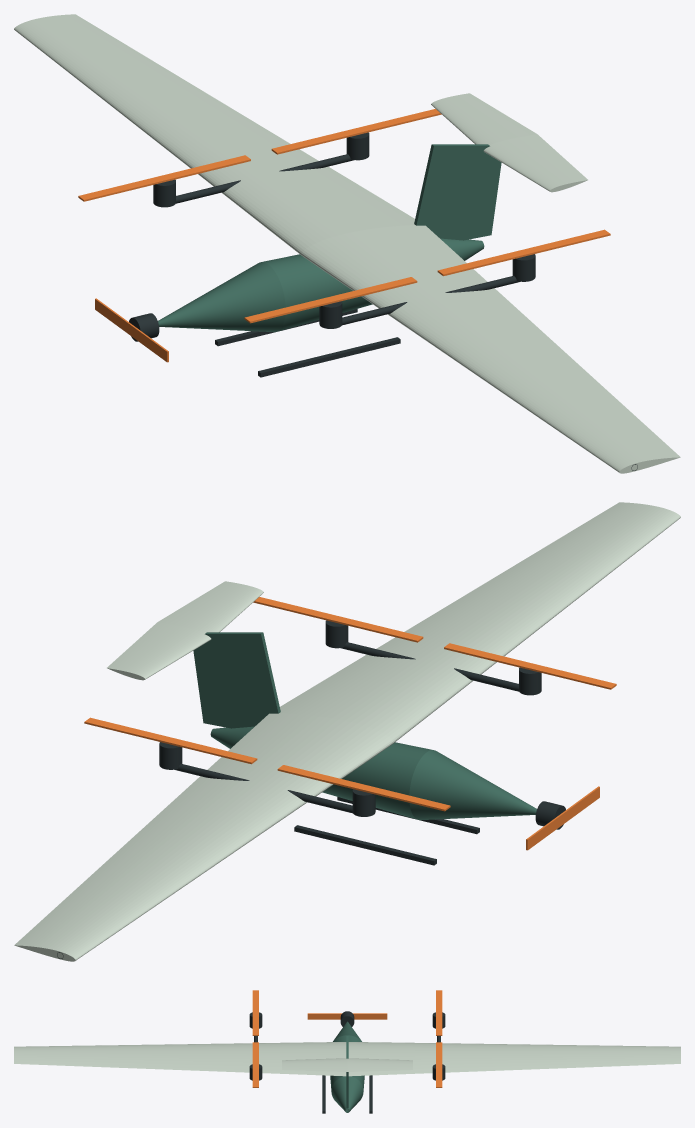
3 views of the same model, one above another, from view 1: azimuth 30°, elevation 25°; view 2: azimuth 150°, elevation 25°; view 3: azimuth 270°, elevation 25° (orthographic). The views are drawn at different scales.
Parts seen in each view (by area): view 1: wing-1, wing1, fuselage, fin, tail-1, tail1, prop_-1_230.0, prop_-1_700.0, prop_1_230.0, prop_1_700.0, skid-1, cruise_prop (+2 smaller); view 2: wing1, wing-1, fuselage, fin, tail1, tail-1, prop_1_230.0, prop_1_700.0, prop_-1_230.0, prop_-1_700.0, skid1, cruise_prop (+2 smaller); view 3: wing-1, wing1, fuselage, tail-1, tail1, cruise_prop, prop_-1_230.0, prop_-1_700.0, prop_1_230.0, prop_1_700.0.
Boxes of the visible parts, bbox=[...] form: wing-1: bbox=[301, 225, 680, 473]; wing1: bbox=[14, 14, 414, 255]; fuselage: bbox=[158, 238, 484, 332]; fin: bbox=[414, 144, 501, 240]; tail-1: bbox=[483, 134, 587, 192]; tail1: bbox=[431, 93, 536, 145]; prop_-1_230.0: bbox=[244, 277, 417, 323]; prop_-1_700.0: bbox=[437, 229, 610, 276]; prop_1_230.0: bbox=[78, 155, 250, 201]; prop_1_700.0: bbox=[271, 109, 441, 154]; skid-1: bbox=[258, 337, 400, 377]; cruise_prop: bbox=[95, 298, 168, 362]; wing1: bbox=[14, 713, 393, 961]; wing-1: bbox=[280, 502, 680, 743]; fuselage: bbox=[210, 726, 536, 820]; fin: bbox=[193, 632, 280, 728]; tail1: bbox=[107, 622, 211, 680]; tail-1: bbox=[158, 581, 263, 633]; prop_1_230.0: bbox=[277, 765, 450, 811]; prop_1_700.0: bbox=[84, 717, 257, 764]; prop_-1_230.0: bbox=[444, 643, 616, 689]; prop_-1_700.0: bbox=[253, 597, 423, 642]; skid1: bbox=[294, 825, 436, 865]; cruise_prop: bbox=[526, 786, 599, 850]; wing-1: bbox=[14, 1042, 346, 1076]; wing1: bbox=[348, 1042, 680, 1076]; fuselage: bbox=[330, 1021, 364, 1112]; tail-1: bbox=[282, 1058, 347, 1071]; tail1: bbox=[347, 1058, 412, 1071]; cruise_prop: bbox=[307, 1013, 387, 1019]; prop_-1_230.0: bbox=[252, 990, 258, 1035]; prop_-1_700.0: bbox=[252, 1042, 258, 1087]; prop_1_230.0: bbox=[436, 990, 442, 1035]; prop_1_700.0: bbox=[436, 1042, 442, 1087].
Bounding box in the file's own units: 989 × 391 × 2550.
